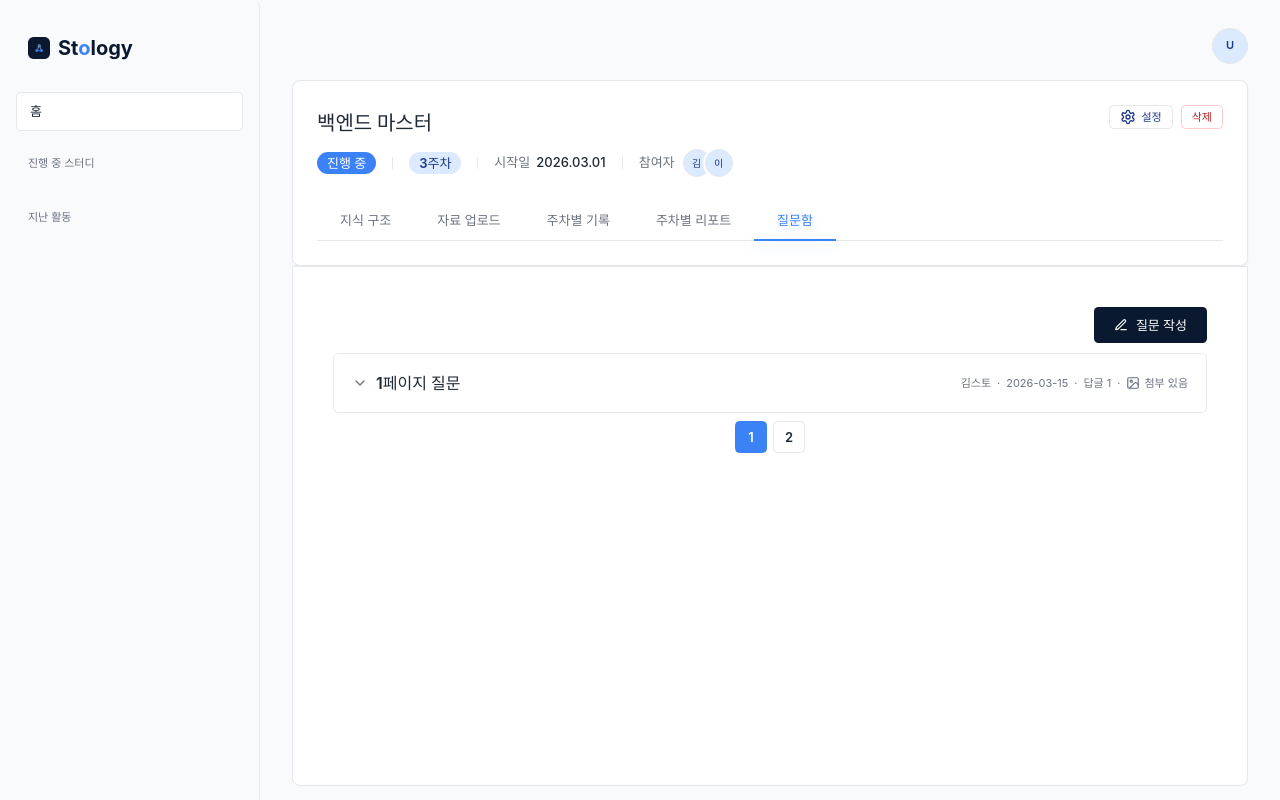
Test: StudyPage questions route › 질문을 펼치면 상세와 답글 및 첨부 이미지를 조회한다
Click the button "1페이지 질문 김스토 · 2026-03-15 · 답글 1 · 첨부 있음".
click(418, 383)  # box [334,354,1206,412]
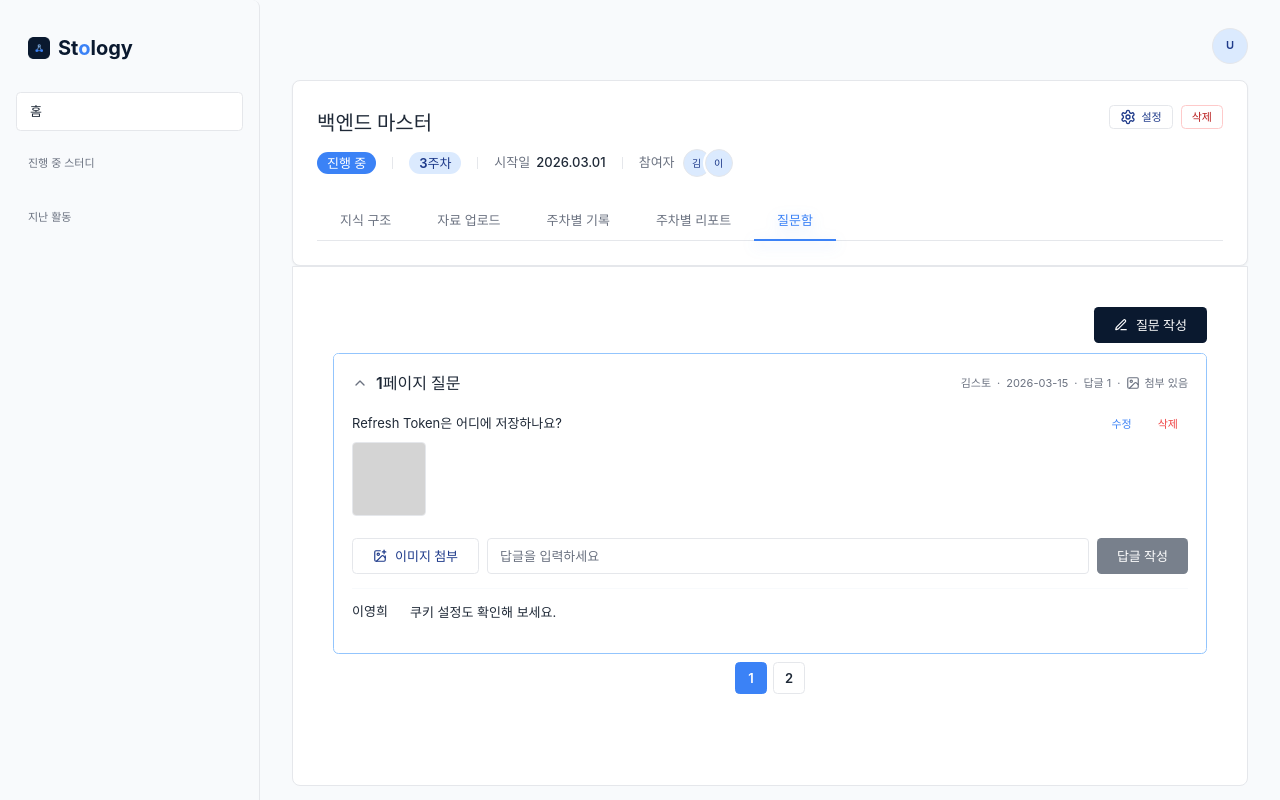
Expected: the text "Refresh Token은 어디에 저장하나요?" is shown, [352,415,566,431]
Expected: the text "쿠키 설정도 확인해 보세요." is shown, [410,604,556,620]
